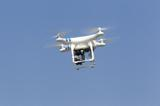UAV: (56, 26, 107, 70)
